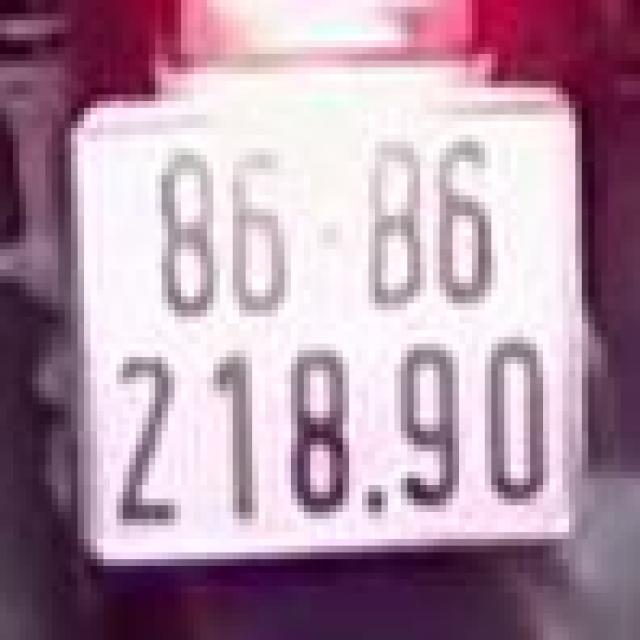0: (472, 327, 569, 515)
1: (194, 344, 265, 532)
2: (103, 334, 181, 516)
6: (227, 142, 310, 330), (437, 121, 508, 317)
8: (152, 138, 216, 327), (288, 337, 346, 519)
9: (391, 327, 469, 529)
B: (359, 118, 430, 320)
